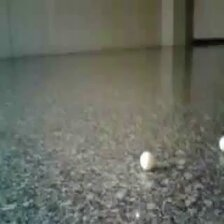w: (138, 151, 154, 170)
